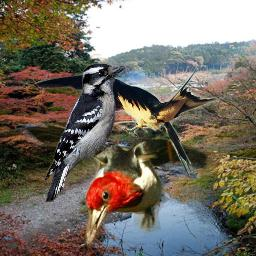Swallow: (31, 63, 251, 178)
Woodpecker: (14, 114, 213, 250), (44, 61, 128, 203)
